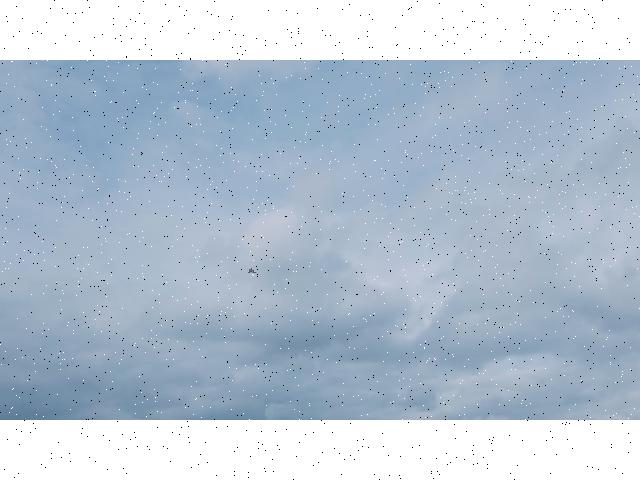Anti-Drone: (246, 266, 258, 276)
